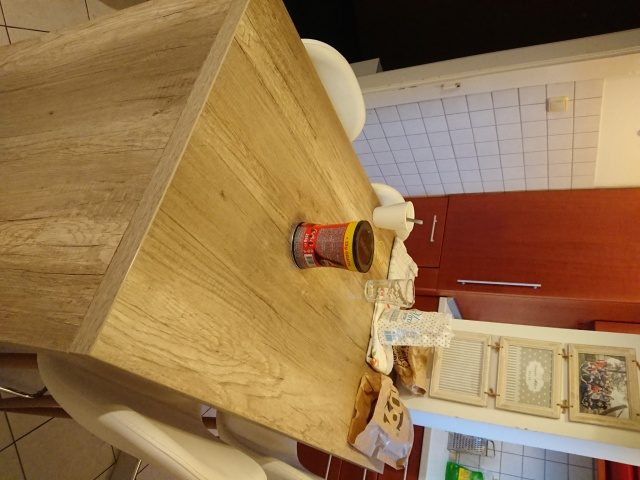Nescafe Classic 225g: (288, 217, 377, 275)
